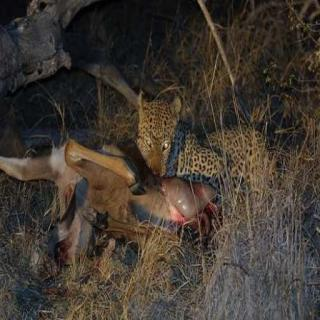Leopard: (99, 96, 314, 202)
